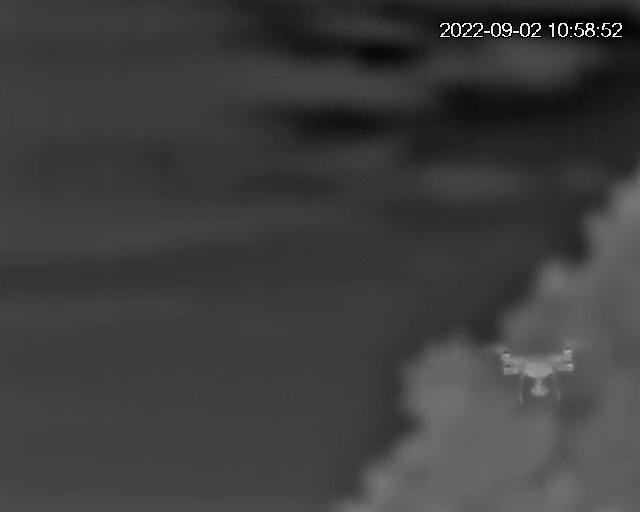DJI-Phantom: (491, 344, 588, 405)
